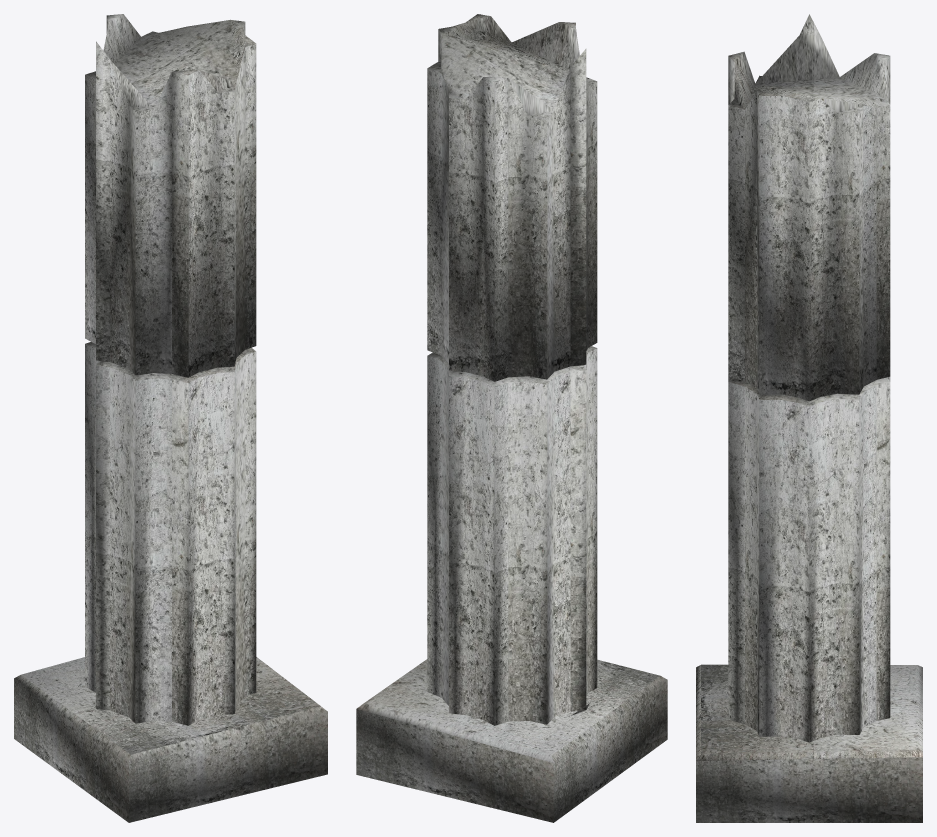
The model's file is Ruin_Pillar.glb.
3 renders of one model, left to right at view 1: azimuth 30°, elevation 25°; view 2: azimuth 150°, elevation 25°; view 3: azimuth 270°, elevation 25°, orthographic.
Visible parts, largest first — view 1: geom-RuinPillarOne200; view 2: geom-RuinPillarOne200; view 3: geom-RuinPillarOne200.
Part boxes in pixels (x1=…): geom-RuinPillarOne200: x1=14, y1=14, x2=327, y2=822; geom-RuinPillarOne200: x1=356, y1=14, x2=667, y2=822; geom-RuinPillarOne200: x1=696, y1=14, x2=922, y2=822.
Size of the model in its own units: 0.7947 by 2.8 by 0.7947.
Materials: 1 (1 with a texture image).
